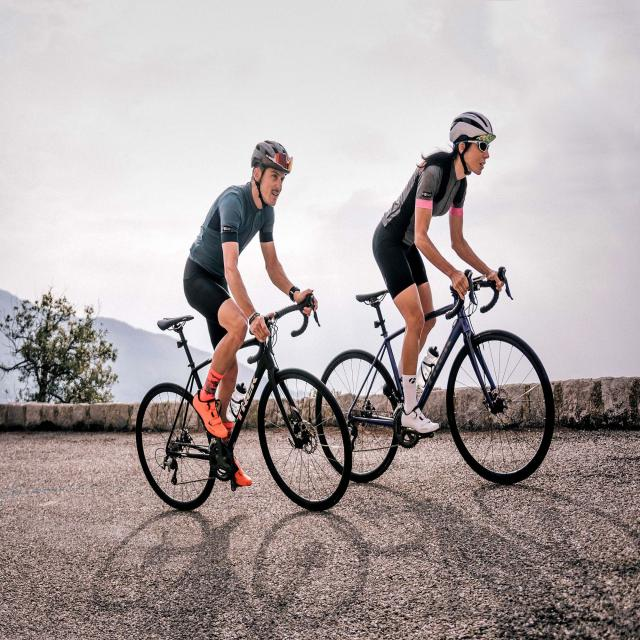bicycle: (322, 112, 554, 483), (136, 140, 351, 510)
